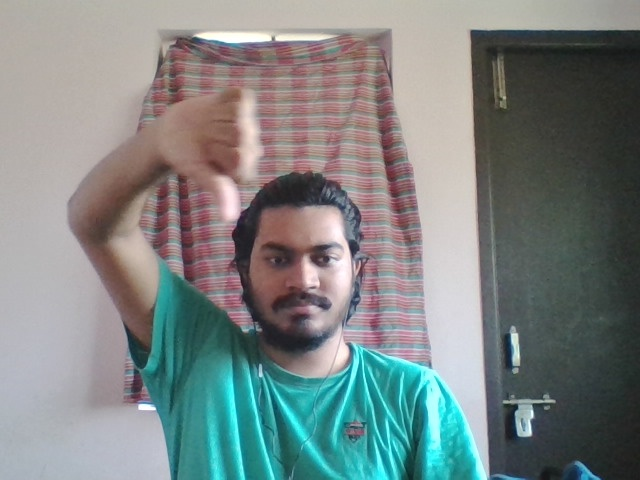ThumbsDown: (163, 88, 261, 221)
